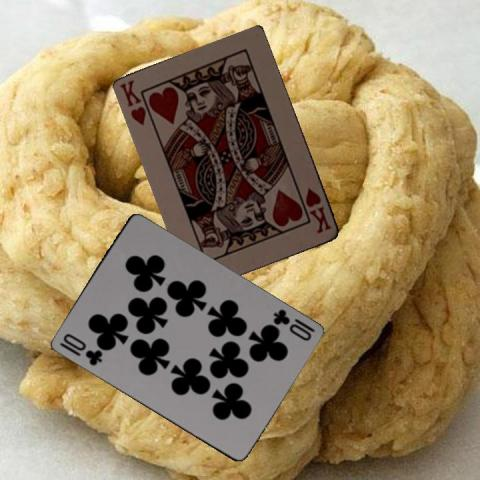10c: (269, 306, 316, 343), (56, 331, 104, 367)
Kh: (117, 77, 148, 128), (303, 185, 333, 235)
